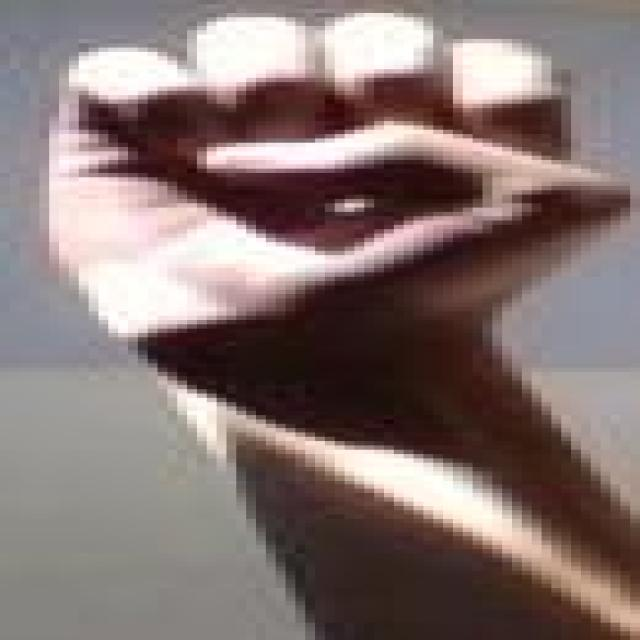E: (10, 9, 640, 402)
